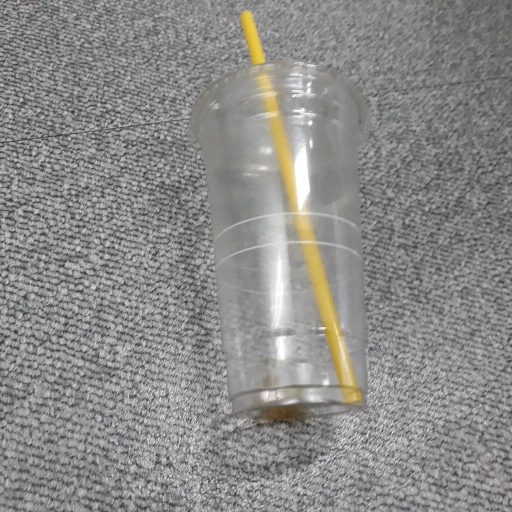Plastic_2: (185, 9, 376, 422)
